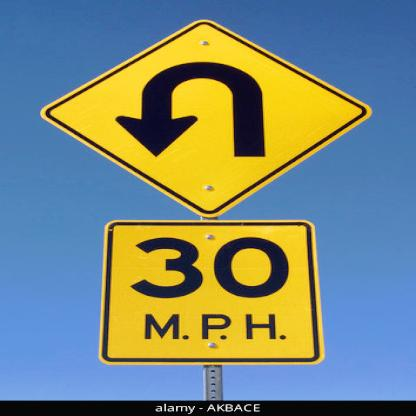U-turn: (38, 12, 377, 219)
